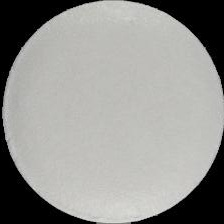50436-3155: (0, 0, 224, 224)
